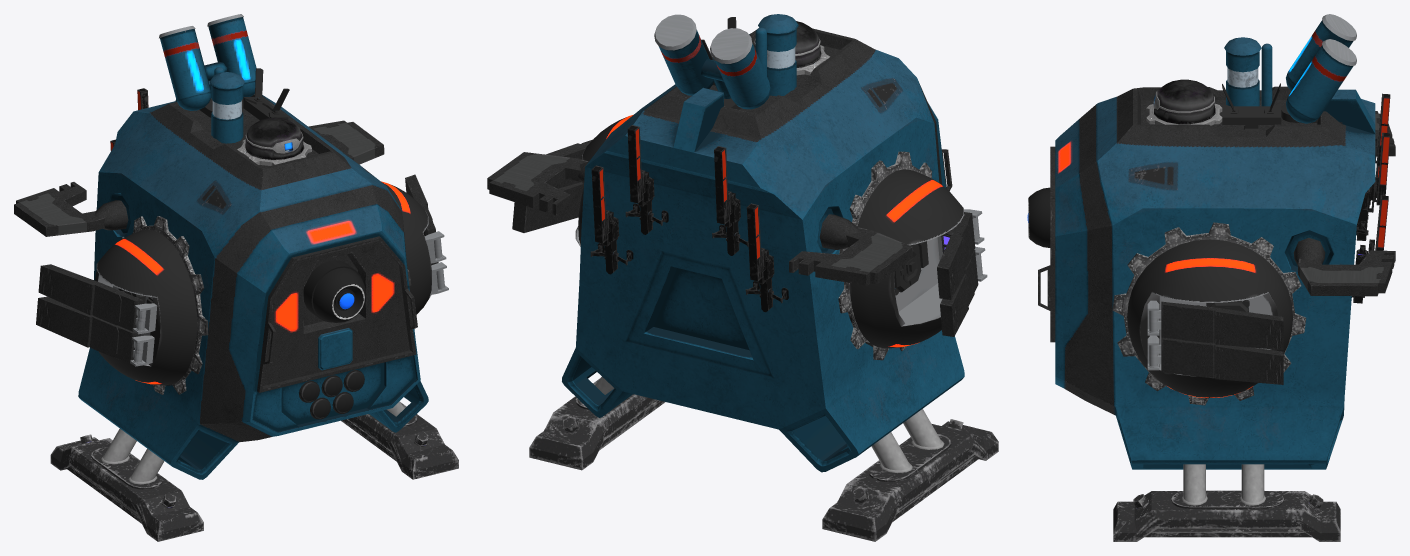
File: Penguin_Aqua.glb
3 renders of one model, left to right at view 1: azimuth 30°, elevation 25°; view 2: azimuth 150°, elevation 25°; view 3: azimuth 270°, elevation 25°, orthographic. The views are drawn at different scales.
Parts seen in each view (by area): view 1: Penguin; view 2: Penguin; view 3: Penguin.
Part boxes in pixels (left/top/right/bottom): Penguin: left=14, top=14, right=458, bottom=541; Penguin: left=487, top=14, right=998, bottom=541; Penguin: left=1027, top=14, right=1395, bottom=541.
Bounding box in the file's own units: 1.46 × 1.49 × 1.14.
Materials: 1 (1 with a texture image).
